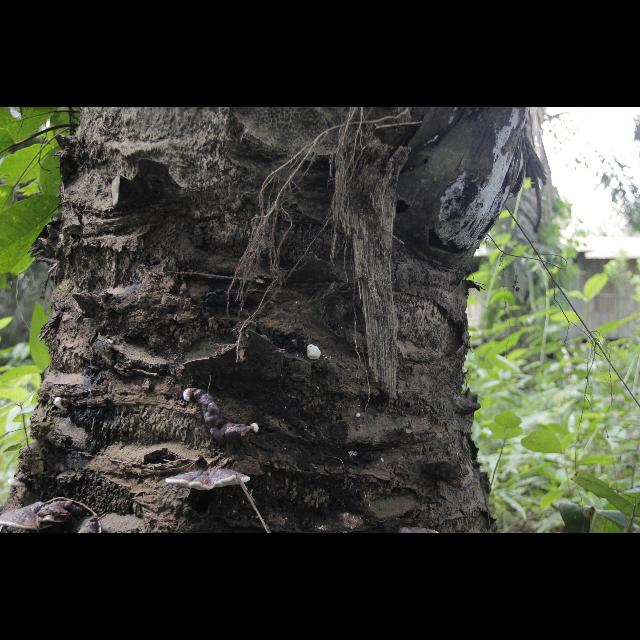ganoderma: (197, 389, 251, 445), (167, 468, 252, 492), (2, 503, 55, 532), (39, 501, 79, 525), (9, 477, 33, 490)
primordium: (56, 399, 73, 414), (307, 345, 322, 361), (184, 389, 196, 403), (252, 423, 261, 435), (357, 415, 362, 420)
